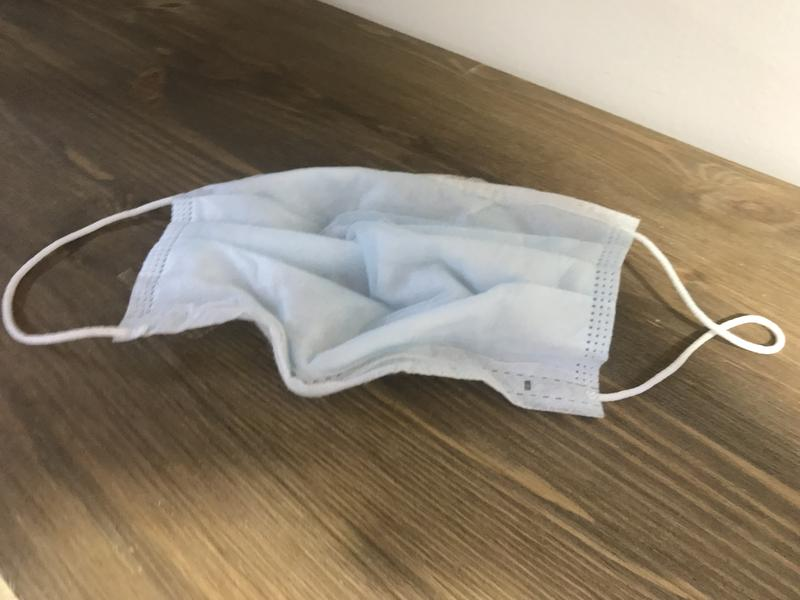medical_mask: (3, 163, 800, 414)
